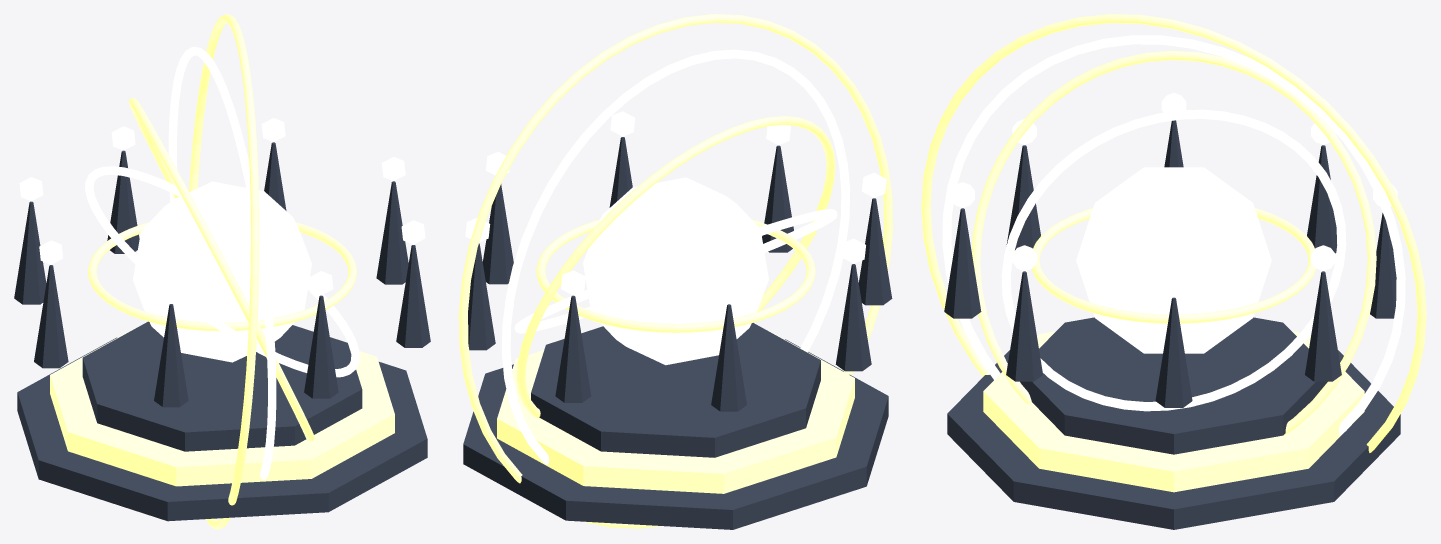
File: gpu-blender-v1.glb
The picture shows the model from 3 angles, left to right: view 1: azimuth 30°, elevation 25°; view 2: azimuth 150°, elevation 25°; view 3: azimuth 270°, elevation 25°; orthographic projection. The views are drawn at different scales.
Visible parts, largest first — view 1: Cylinder.002, Cylinder, SovereignCore_zothos-lite, Cylinder.001, Torus.004, Torus.003, Torus.001, Torus.002, Torus, Cone.005, Cone.004, Cone.006 (+5 smaller); view 2: Cylinder.002, SovereignCore_zothos-lite, Cylinder, Cylinder.001, Torus.004, Torus.003, Torus.002, Torus.001, Torus, Cone.004, Cone.003, Cone.002 (+5 smaller); view 3: SovereignCore_zothos-lite, Cylinder.002, Cylinder, Cylinder.001, Torus.004, Torus.003, Torus.002, Torus.001, Torus, Cone.006, Cone.001, Cone.007 (+5 smaller).
Boxes of the visible parts, x1,y1,x2,y2 form: Cylinder.002: [82, 321, 362, 451]; Cylinder: [17, 337, 427, 521]; SovereignCore_zothos-lite: [133, 181, 311, 362]; Cylinder.001: [50, 329, 394, 486]; Torus.004: [189, 14, 259, 529]; Torus.003: [168, 46, 276, 479]; Torus.001: [85, 166, 359, 377]; Torus.002: [129, 98, 314, 440]; Torus: [88, 222, 356, 331]; Cone.005: [154, 304, 188, 407]; Cone.004: [34, 265, 68, 368]; Cone.006: [304, 295, 338, 398]; Cylinder.002: [531, 323, 820, 457]; SovereignCore_zothos-lite: [583, 177, 768, 365]; Cylinder: [463, 339, 888, 529]; Cylinder.001: [497, 330, 854, 493]; Torus.004: [459, 14, 892, 528]; Torus.003: [501, 49, 850, 464]; Torus.002: [516, 116, 835, 418]; Torus.001: [514, 209, 837, 333]; Torus: [536, 219, 815, 332]; Cone.004: [835, 264, 871, 371]; Cone.003: [711, 304, 746, 411]; Cone.002: [555, 295, 591, 402]; SovereignCore_zothos-lite: [1076, 167, 1271, 353]; Cylinder.002: [1020, 317, 1327, 454]; Cylinder: [947, 350, 1400, 529]; Cylinder.001: [983, 331, 1364, 492]; Torus.004: [921, 14, 1426, 452]; Torus.003: [942, 35, 1405, 435]; Torus.002: [972, 50, 1376, 434]; Torus.001: [1001, 109, 1346, 411]; Torus: [1031, 208, 1316, 323]; Cone.006: [944, 208, 981, 318]; Cone.001: [1305, 271, 1341, 381]; Cone.007: [1006, 271, 1042, 381].
Bounding box in the file's own units: 4.41 × 5.33 × 4.9.
